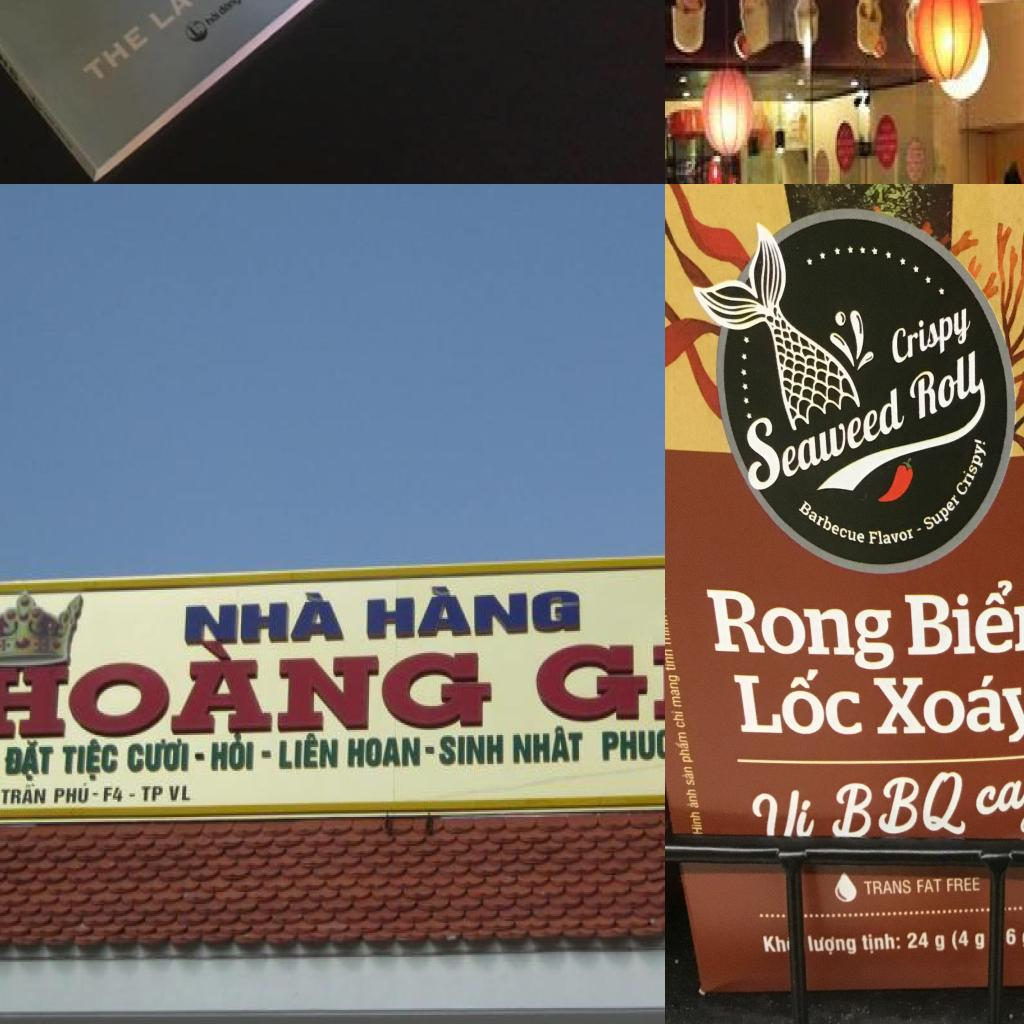text: (0, 644, 498, 741), (741, 362, 909, 498), (707, 588, 897, 675), (360, 578, 583, 641), (530, 634, 665, 724), (873, 671, 1024, 746), (829, 768, 971, 839), (902, 577, 1024, 658), (183, 588, 346, 646), (728, 670, 862, 738), (907, 346, 986, 426), (890, 302, 971, 373), (78, 24, 154, 88), (797, 501, 867, 552), (974, 772, 1024, 835), (511, 723, 584, 766), (145, 0, 228, 33), (62, 736, 119, 784), (347, 735, 423, 771), (598, 726, 665, 765), (438, 733, 506, 771), (126, 737, 192, 776), (277, 732, 341, 772), (956, 435, 992, 501), (3, 740, 55, 783), (210, 733, 256, 773), (922, 492, 962, 536), (809, 936, 858, 964), (0, 781, 48, 807), (867, 525, 916, 547), (862, 932, 901, 959), (863, 878, 912, 899), (53, 781, 92, 807), (906, 930, 945, 956), (950, 927, 986, 955), (794, 796, 818, 836), (673, 731, 695, 764), (943, 877, 982, 895), (761, 931, 787, 956), (139, 783, 164, 805), (668, 674, 682, 708), (1005, 924, 1024, 949), (102, 784, 124, 804), (917, 877, 943, 893), (680, 766, 696, 788), (689, 811, 703, 836), (686, 789, 700, 810), (670, 710, 685, 728), (665, 648, 676, 672), (665, 614, 672, 645)
